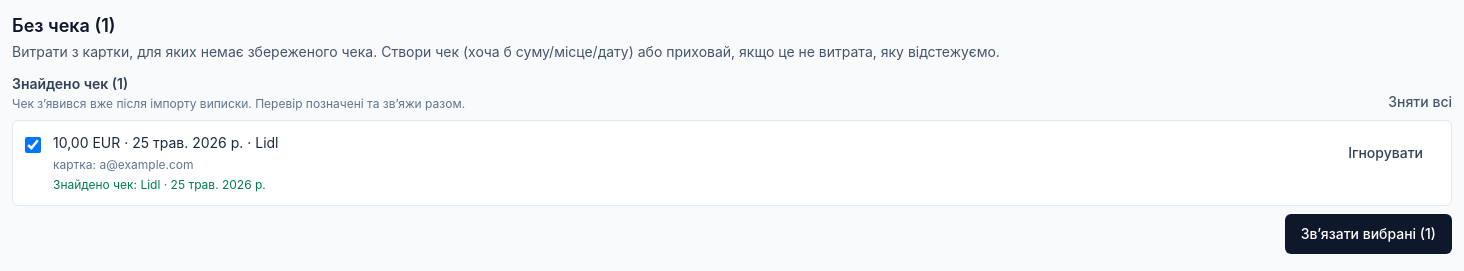
Scenario: OrphanList › "Зняти всі" empties the selection and disables the link button
Click the button "Зняти всі".
click(1420, 102)  # box [1388,92,1452,112]
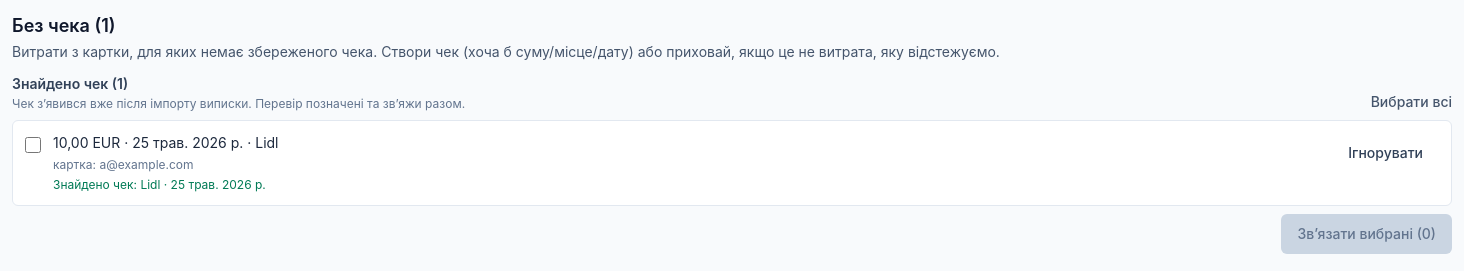
Expected: the button "Зв’язати вибрані (0)" is disabled, [1281,214,1452,254]
